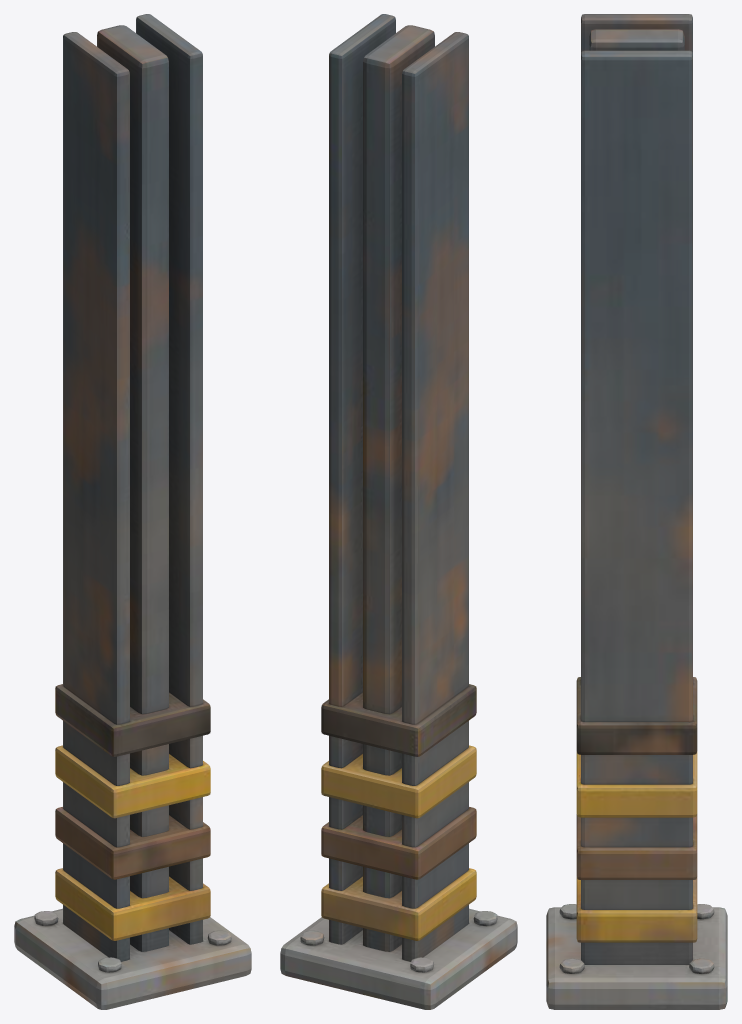
File: girder.glb
3 views of the same model, side by side, from view 1: azimuth 30°, elevation 25°; view 2: azimuth 150°, elevation 25°; view 3: azimuth 270°, elevation 25° (orthographic). The views are drawn at different scales.
Visible parts, largest first — view 1: Girder_Mesh; view 2: Girder_Mesh; view 3: Girder_Mesh.
Part boxes in pixels (x1,y1,x2,y2): Girder_Mesh: [14, 14, 251, 1009]; Girder_Mesh: [280, 14, 517, 1009]; Girder_Mesh: [546, 14, 727, 1009].
Bounding box in the file's own units: 0.42 × 2.4 × 0.42.
Materials: 1 (1 with a texture image).
